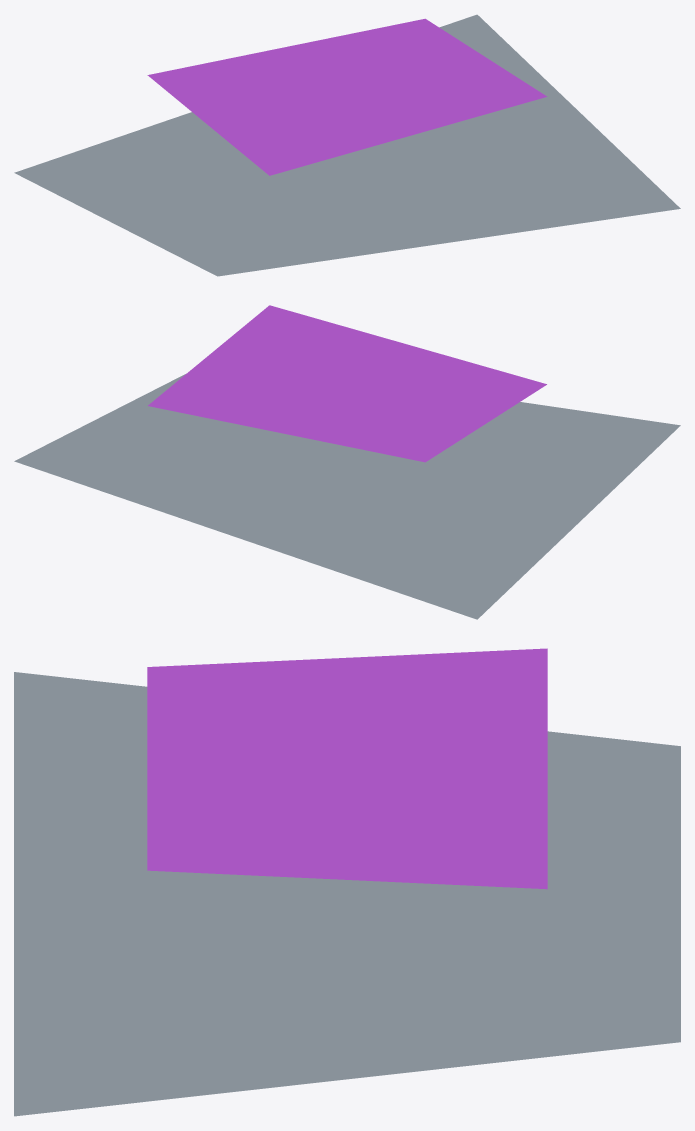
Rendered from CH_TrailGunship_LOD2.glb.
The picture shows the model from 3 angles, top to bottom: view 1: azimuth 30°, elevation 25°; view 2: azimuth 150°, elevation 25°; view 3: azimuth 270°, elevation 25°; orthographic projection. The views are drawn at different scales.
Parts seen in each view (by area): view 1: EntranceGate; view 2: EntranceGate; view 3: EntranceGate.
Boxes of the visible parts, x1=… form: EntranceGate: x1=14, y1=14, x2=680, y2=276; EntranceGate: x1=14, y1=305, x2=680, y2=619; EntranceGate: x1=14, y1=648, x2=680, y2=1116.
Size of the model in its own units: 670 by 145 by 510.
